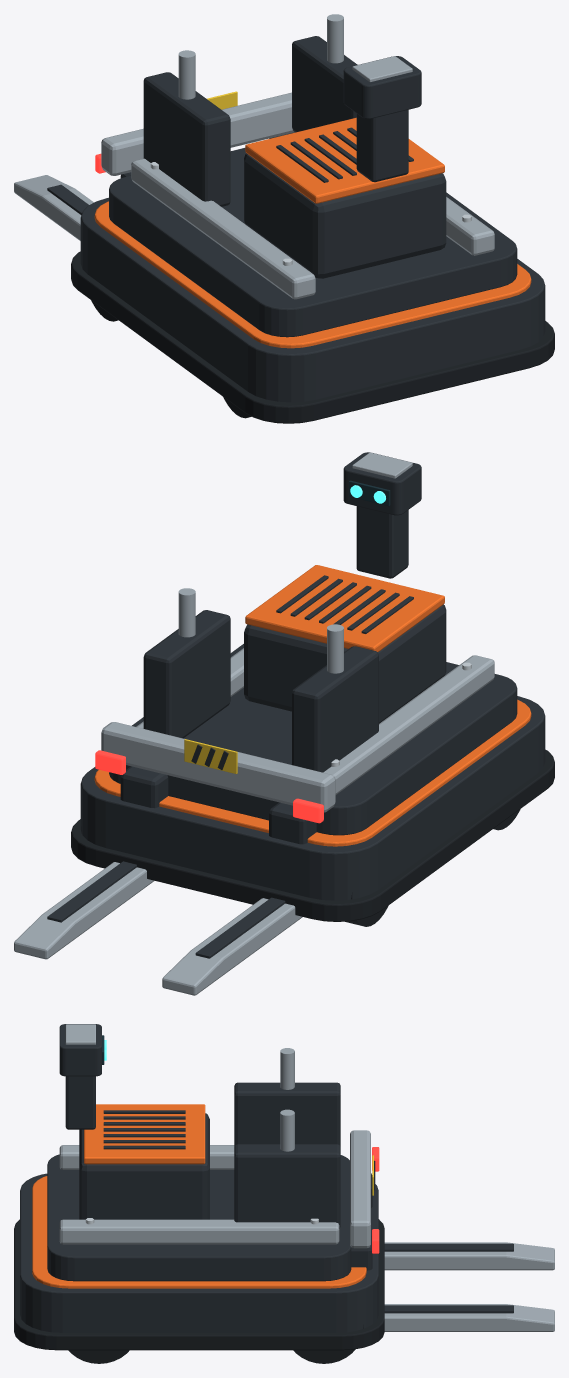
Rendered from SM_VR_AlarmRobot.fbx.
3 views of the same model, one above another, from view 1: azimuth 30°, elevation 25°; view 2: azimuth 150°, elevation 25°; view 3: azimuth 270°, elevation 25° (orthographic). The views are drawn at different scales.
Parts seen in each view (by area): view 1: SM_VR_AlarmRobot; view 2: SM_VR_AlarmRobot; view 3: SM_VR_AlarmRobot.
Part boxes in pixels (left/top/right/bottom): SM_VR_AlarmRobot: left=14, top=14, right=554, bottom=423; SM_VR_AlarmRobot: left=14, top=452, right=554, bottom=995; SM_VR_AlarmRobot: left=14, top=1024, right=554, bottom=1363.
Size of the model in its own units: 98 by 178 by 99.7.
